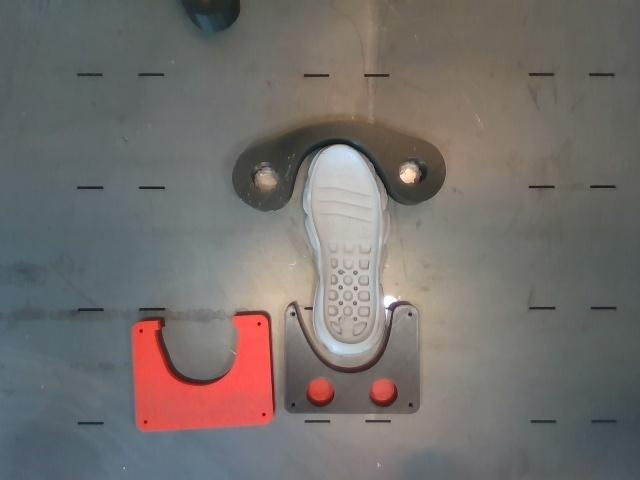shoes: (311, 146, 380, 344)
